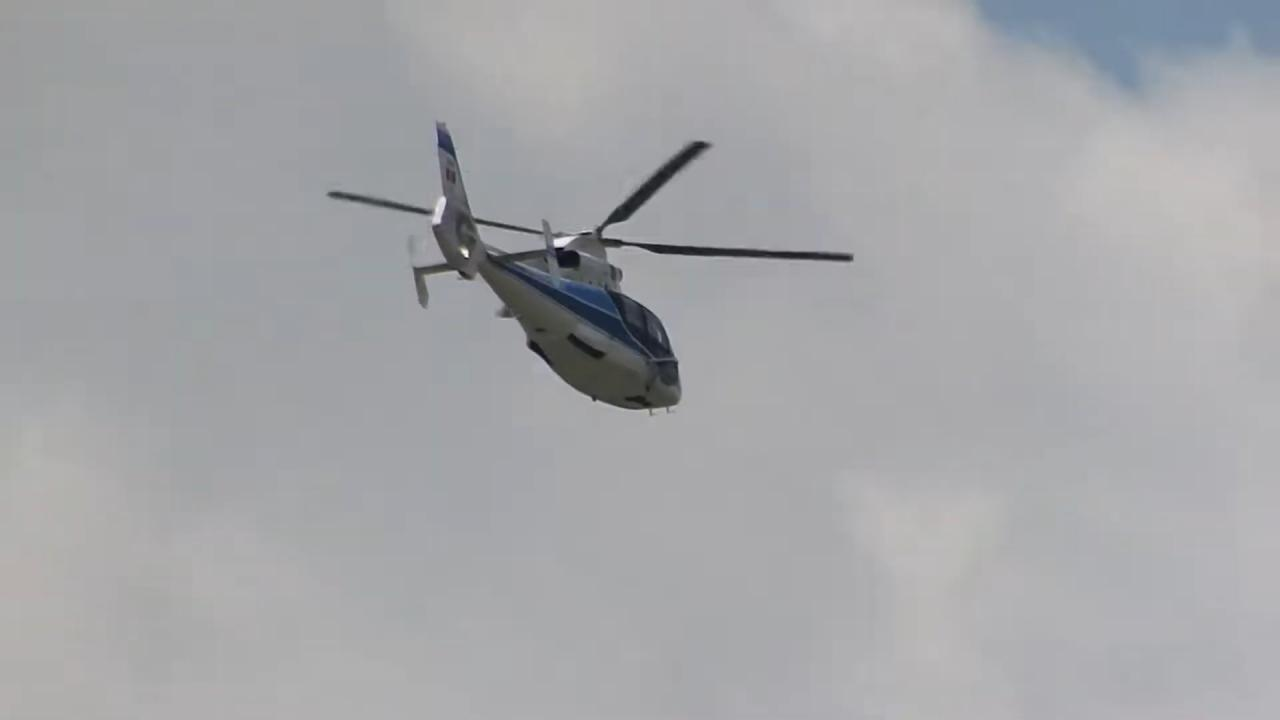Helicopter: (318, 105, 867, 424)
